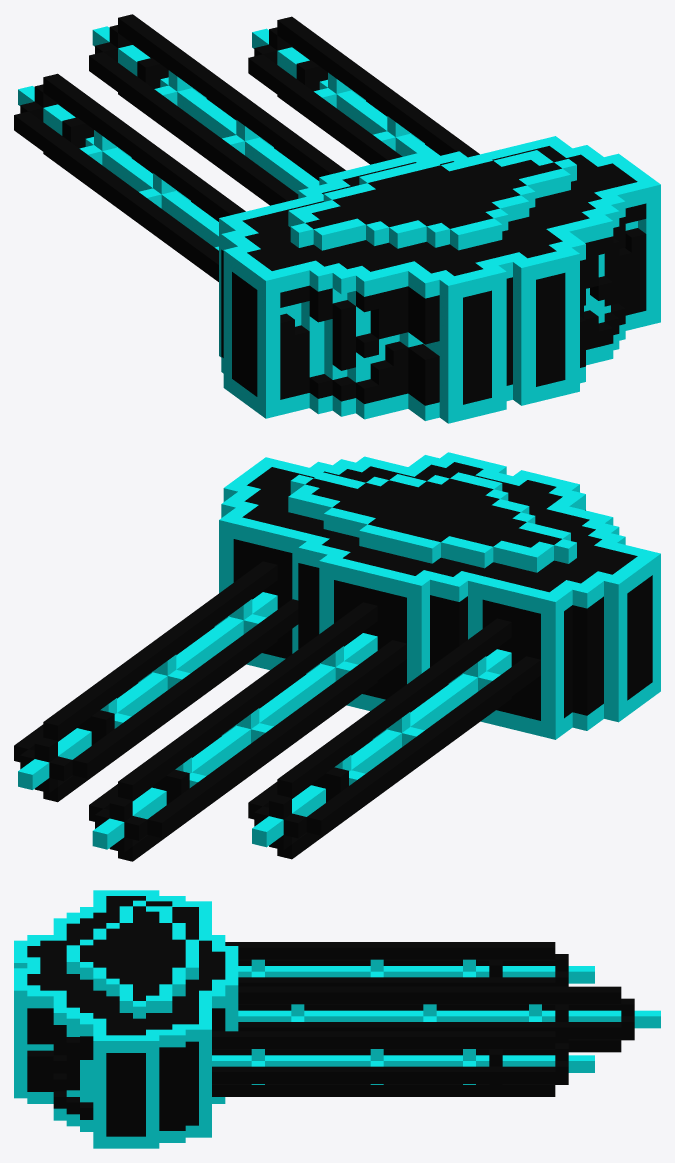
File: PlasmaGatlingGunTurret.FBX
3 renders of one model, top to bottom at view 1: azimuth 30°, elevation 25°; view 2: azimuth 150°, elevation 25°; view 3: azimuth 270°, elevation 25°, orthographic. The views are drawn at different scales.
Visible parts, largest first — view 1: PlasmaGatlingGunTurret; view 2: PlasmaGatlingGunTurret; view 3: PlasmaGatlingGunTurret.
Boxes of the visible parts, x1,y1,x2,y2 form: PlasmaGatlingGunTurret: (14, 14, 660, 423); PlasmaGatlingGunTurret: (14, 452, 660, 861); PlasmaGatlingGunTurret: (14, 890, 660, 1148).
Size of the model in its own units: 27 by 49 by 10.
